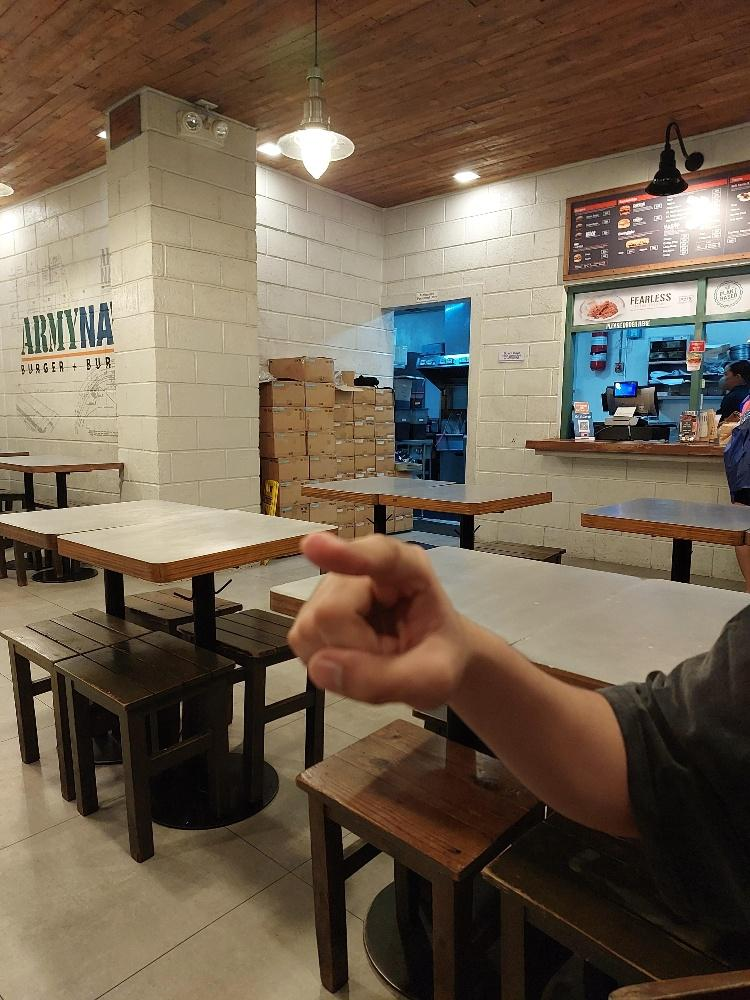z: (283, 530, 466, 711)
